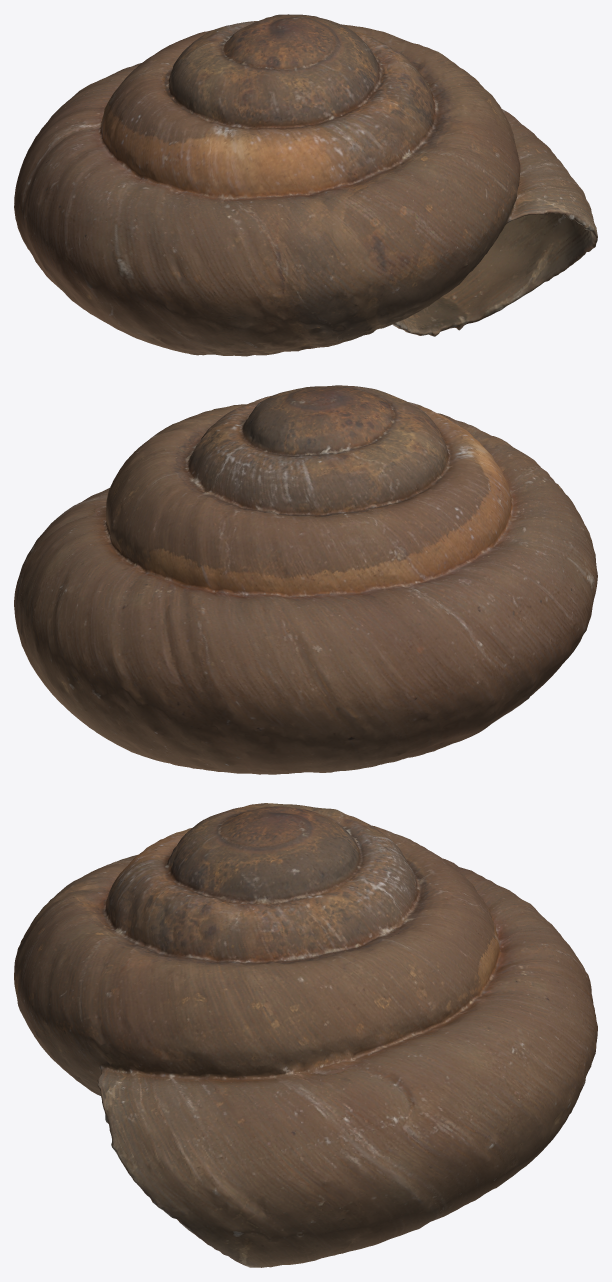
Rendered from Mollusk.glb.
3 renders of one model, top to bottom at view 1: azimuth 30°, elevation 25°; view 2: azimuth 150°, elevation 25°; view 3: azimuth 270°, elevation 25°, orthographic. The views are drawn at different scales.
Parts seen in each view (by area): view 1: Mesh_0; view 2: Mesh_0; view 3: Mesh_0.
Boxes of the visible parts, box(x1,y1,x2,y2) form: Mesh_0: box(14, 14, 597, 356); Mesh_0: box(14, 385, 597, 774); Mesh_0: box(14, 803, 597, 1267).
Size of the model in its own units: 2.55 by 1.65 by 2.42.
1 material, 1 textured.
